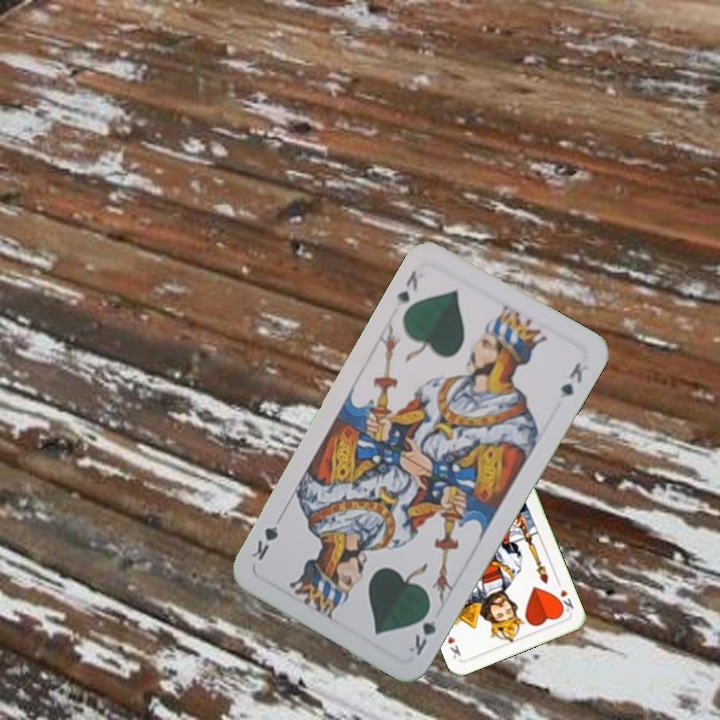GK: (404, 602, 439, 659), (391, 266, 421, 311)
HK: (552, 585, 576, 616)
